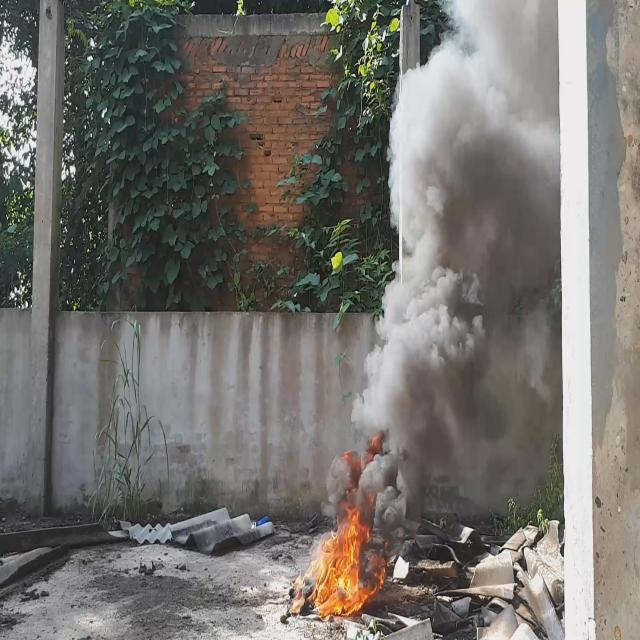Fire: (294, 512, 389, 616)
Smoke: (326, 0, 558, 518)
